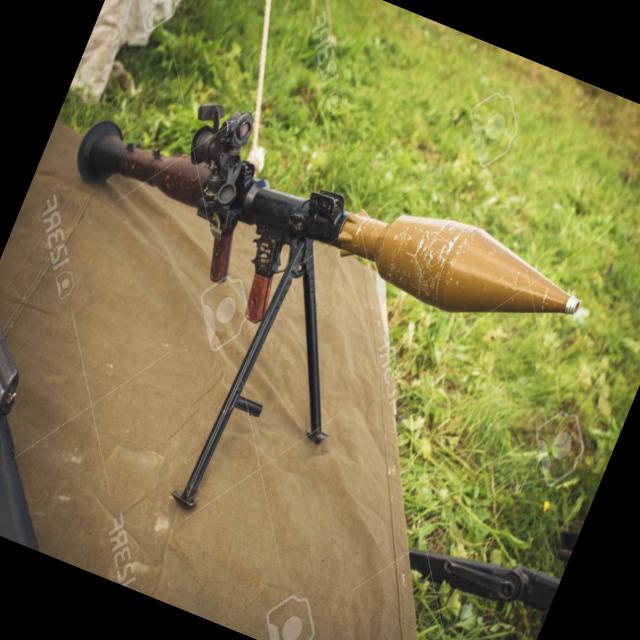Weapon: (0, 67, 599, 620)
